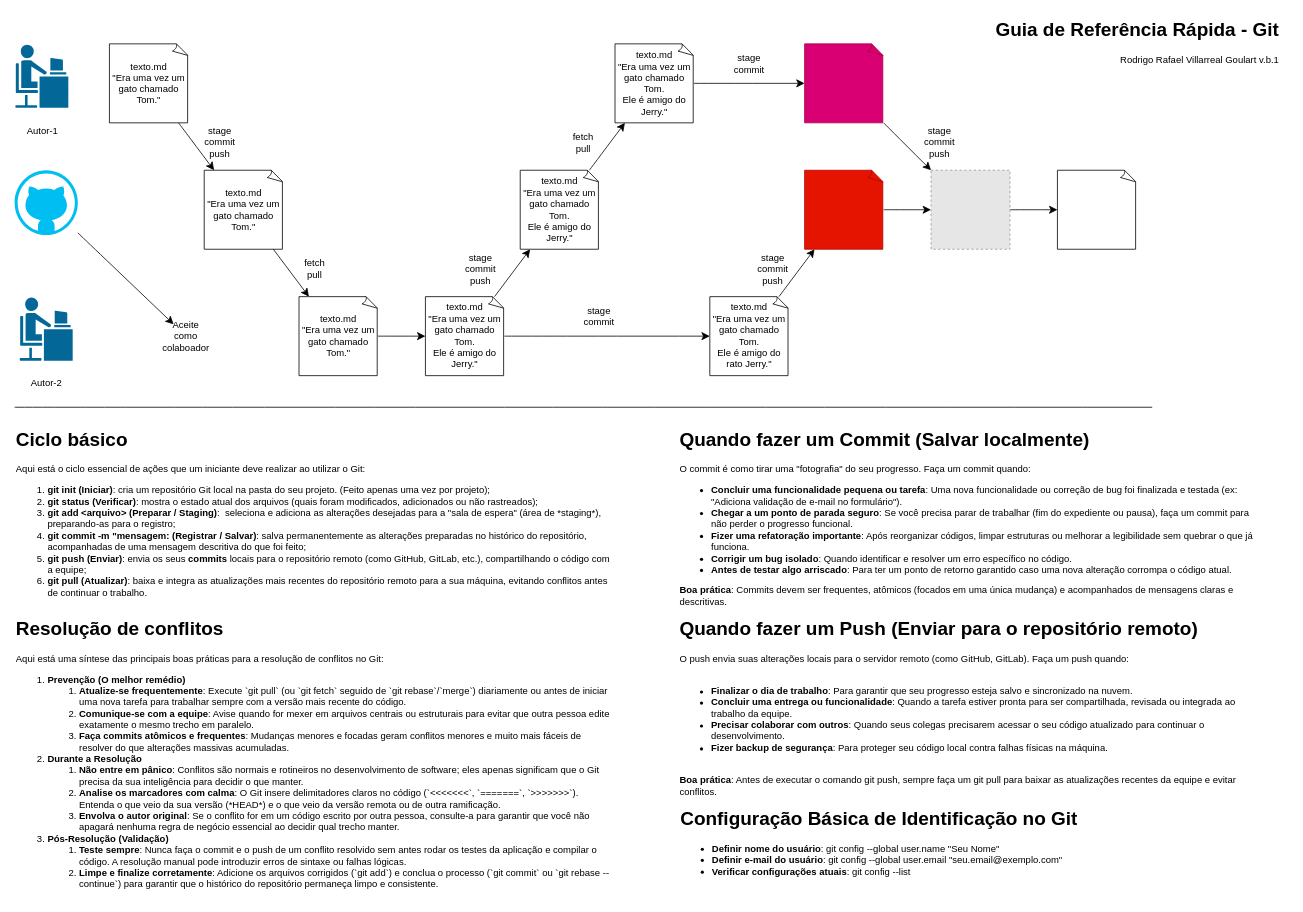
Some shapes in this 1303 by 912 pixel diagram are drawn without their labels. Grey dashed boxes stand in for pictures. Here are the shapes that lost their labels. From the top down, the centre of each, then its label:
(x=844, y=83): texto.md "Era uma vez um gato chamado Tom. Ele é amigo do Jerry, o rato."
(x=45, y=202): GitHub
(x=844, y=209): texto.md "Era uma vez um gato chamado Tom. Ele é amigo do rato Jerry ."
(x=1096, y=209): texto.md "Era uma vez um gato chamado Tom. Ele é amigo do Jerry, o rato ."
